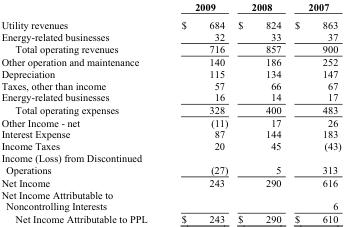table: (0, 0, 340, 224)
table column: (0, 0, 163, 224), (163, 0, 232, 224), (232, 0, 287, 224), (287, 0, 340, 224)
table column header: (0, 0, 340, 15)
table row: (0, 151, 340, 175), (0, 188, 340, 212), (0, 0, 340, 15), (0, 15, 340, 30), (0, 42, 340, 55), (0, 115, 340, 128), (0, 175, 340, 188), (0, 30, 340, 42), (0, 55, 340, 67), (0, 67, 340, 79), (0, 79, 340, 91), (0, 91, 340, 103), (0, 103, 340, 115), (0, 139, 340, 151), (0, 212, 340, 224), (0, 128, 340, 139)
